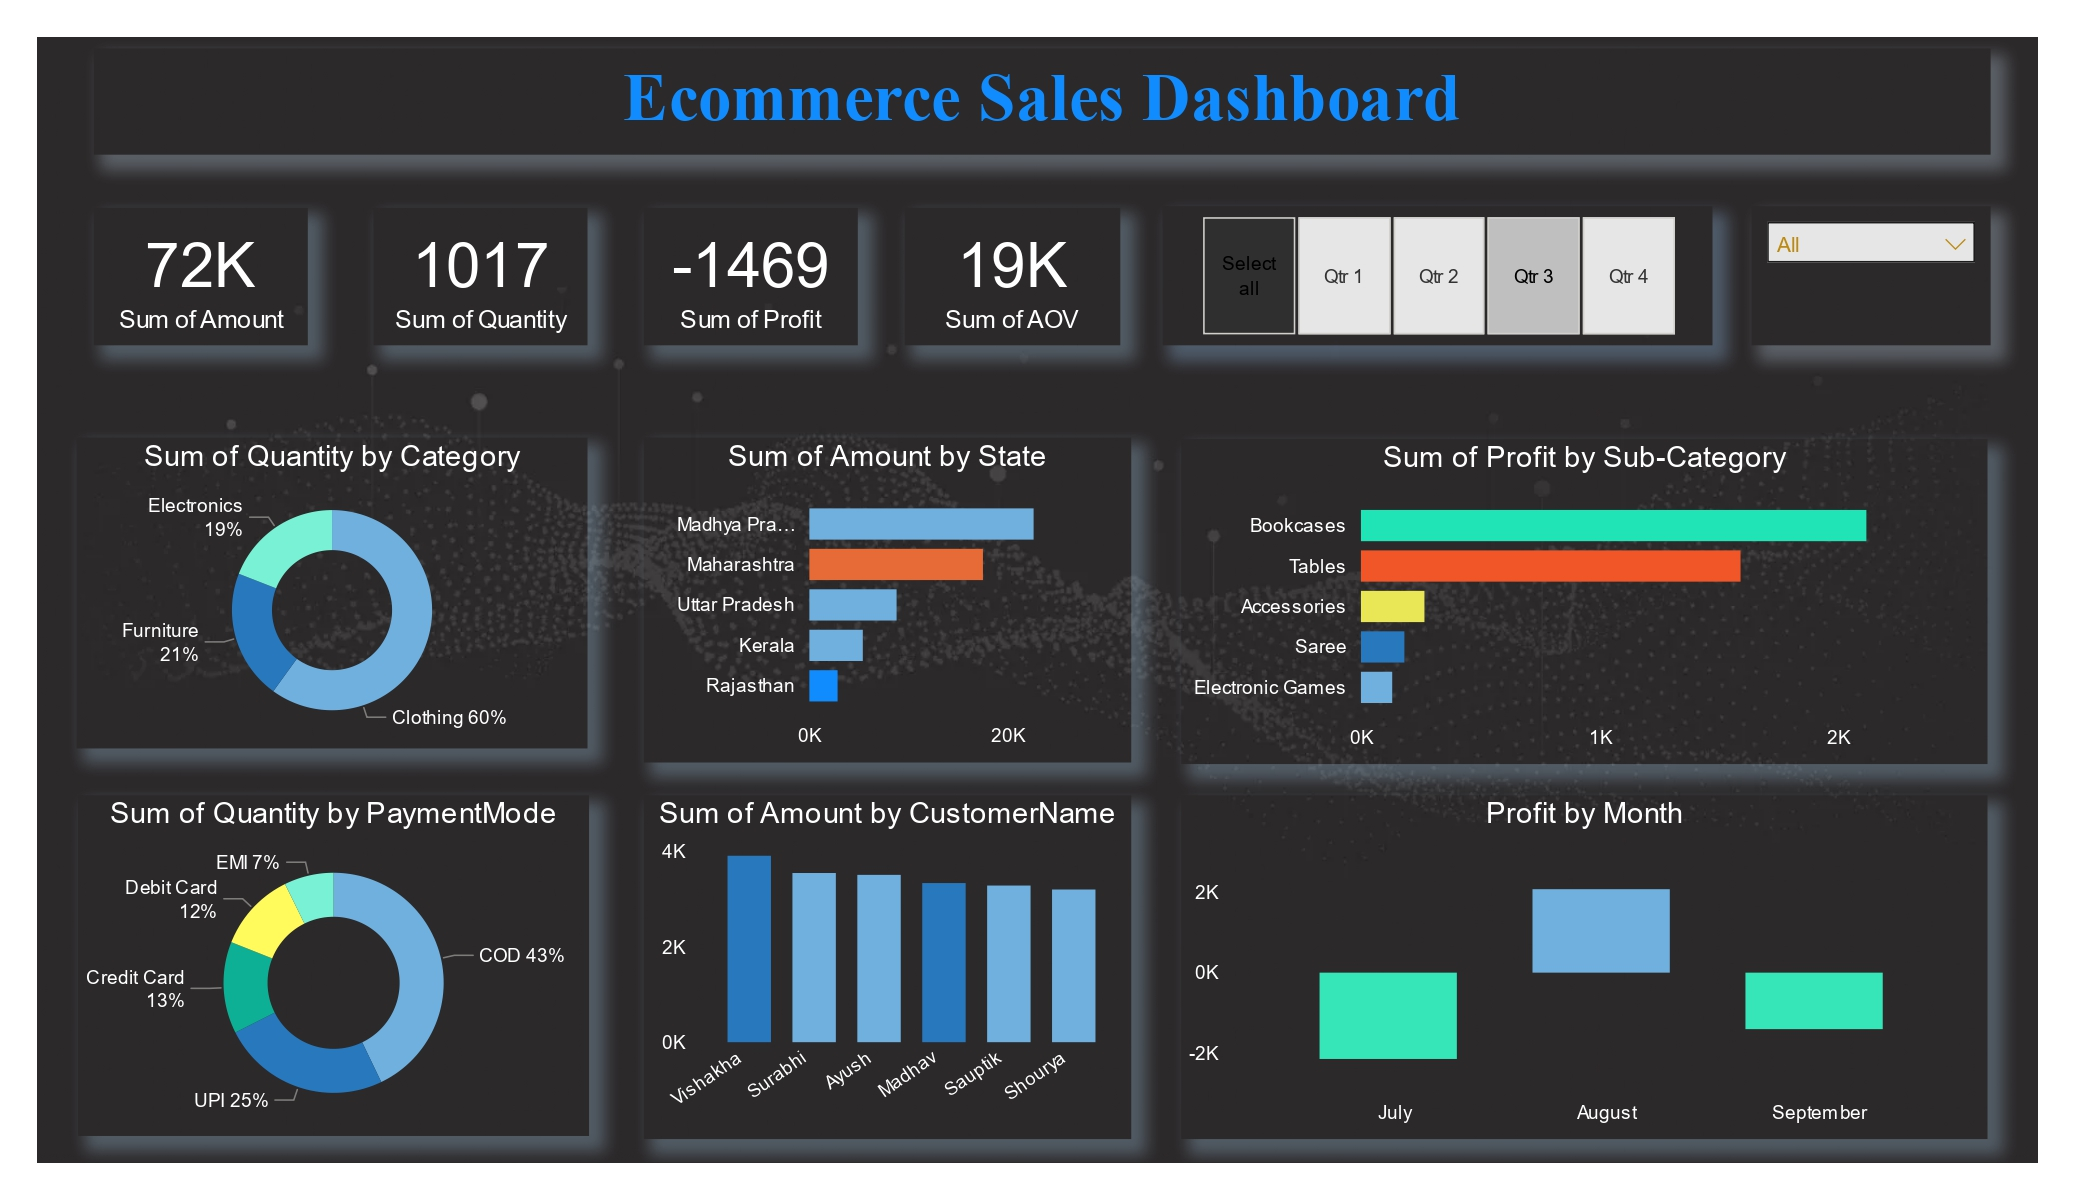

The page's visual inventory and layout, read from the dashboard file:
{"tool":"powerbi","page":{"name":"Page 1","canvas":[1280,720],"ordinal":0},"visuals":[{"type":"textbox","box":[36,6.8,1213.9,68.1],"z":0},{"type":"columnChart","title":"Profit by Month","fields":{"Category":["Orders.Order Date.Variation.Date Hierarchy.Month"],"Y":["Details.Profit"]},"box":[731.6,468.4,517.5,221.1],"z":1000},{"type":"barChart","fields":{"Category":["Details.Sub-Category"],"Y":["Details.Profit"]},"box":[731.6,245.6,517.5,182.5],"z":2000},{"type":"donutChart","fields":{"Category":["Details.Category"],"Y":["Details.Quantity"]},"box":[24.6,245.6,328.1,182.5],"z":3000},{"type":"donutChart","fields":{"Category":["Details.PaymentMode"],"Y":["Details.Quantity"]},"box":[26.3,468.4,326.3,221.1],"z":4000},{"type":"card","fields":{"Values":["Details.Amount"]},"box":[36,108.9,137,88.5],"z":5000},{"type":"card","fields":{"Values":["Details.Quantity"]},"box":[215,108.9,137.1,88.5],"z":6000},{"type":"card","fields":{"Values":["Details.Profit"]},"box":[388.1,108.9,137.1,88.5],"z":7000},{"type":"card","fields":{"Values":["Details.AOV"]},"box":[555.4,108.9,137.1,88.5],"z":8000},{"type":"barChart","fields":{"Category":["Orders.State"],"Y":["Details.Amount"]},"box":[387.7,245.6,312.3,182.5],"z":9000},{"type":"columnChart","fields":{"Y":["Details.Amount"],"Category":["Orders.CustomerName"]},"box":[387.7,468.4,312.3,221.1],"z":10000},{"type":"slicer","fields":{"Values":["Orders.Order Date.Variation.Date Hierarchy.Quarter"]},"box":[720,108.3,351.7,88.3],"z":11000},{"type":"slicer","fields":{"Values":["Orders.State"]},"box":[1096.5,108.8,154.4,43.9],"z":12000},{"type":"textbox","box":[1028.1,29.8,222.8,45.6],"z":12001}]}

Visuals, with their boxes on the page's 1280x720 design canvas (x1, y1, x2, y2). These are canvas units, not pixel positions in the 2075x1200 screenshot, which may show the page scaled, cropped or inside an application window:
textbox: (x1=36, y1=7, x2=1250, y2=75)
"Profit by Month" columnChart: (x1=732, y1=468, x2=1249, y2=690)
barChart - Details.Sub-Category x Details.Profit: (x1=732, y1=246, x2=1249, y2=428)
donutChart - Details.Category x Details.Quantity: (x1=25, y1=246, x2=353, y2=428)
donutChart - Details.PaymentMode x Details.Quantity: (x1=26, y1=468, x2=353, y2=690)
card - Details.Amount: (x1=36, y1=109, x2=173, y2=197)
card - Details.Quantity: (x1=215, y1=109, x2=352, y2=197)
card - Details.Profit: (x1=388, y1=109, x2=525, y2=197)
card - Details.AOV: (x1=555, y1=109, x2=692, y2=197)
barChart - Orders.State x Details.Amount: (x1=388, y1=246, x2=700, y2=428)
columnChart - Details.Amount x Orders.CustomerName: (x1=388, y1=468, x2=700, y2=690)
slicer - Orders.Order Date.Variation.Date Hierarchy.Quarter: (x1=720, y1=108, x2=1072, y2=197)
slicer - Orders.State: (x1=1096, y1=109, x2=1251, y2=153)
textbox: (x1=1028, y1=30, x2=1251, y2=75)
